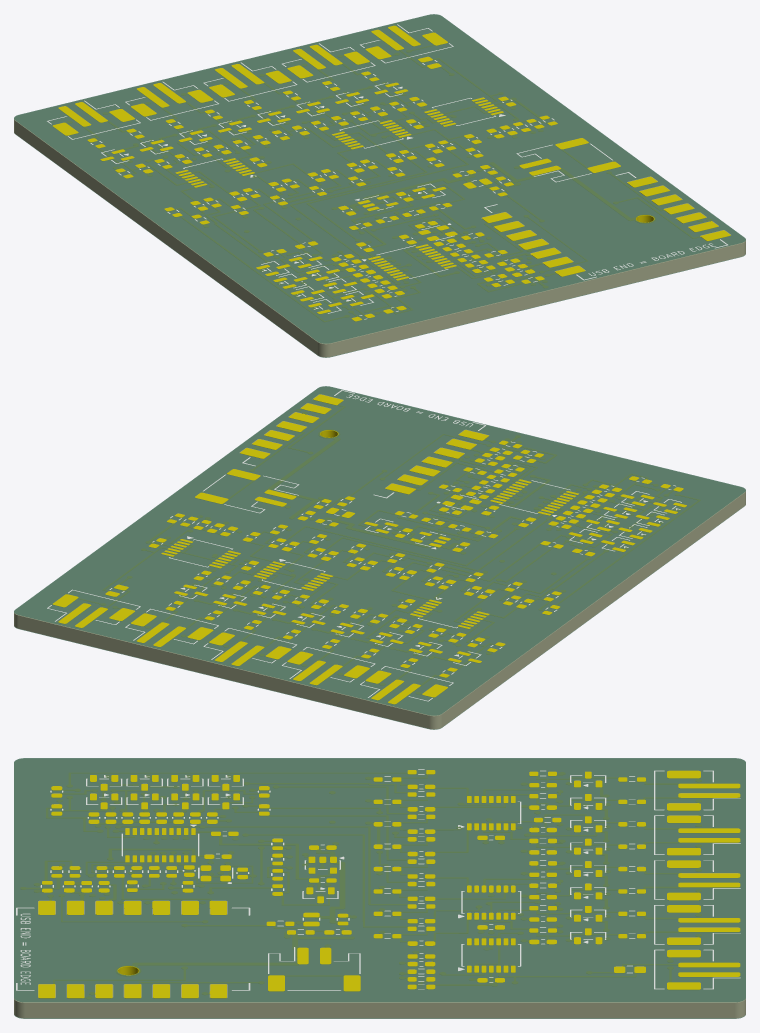
File: ARTHUR_EMG_RevB.glb
The picture shows the model from 3 angles, top to bottom: view 1: azimuth 30°, elevation 25°; view 2: azimuth 150°, elevation 25°; view 3: azimuth 270°, elevation 25°; orthographic projection. The views are drawn at different scales.
Parts seen in each view (by area): view 1: =>[0:1:1:5], =>[0:1:1:7], =>[0:1:1:2], =>[0:1:1:3], =>[0:1:1:6]; view 2: =>[0:1:1:5], =>[0:1:1:7], =>[0:1:1:2], =>[0:1:1:3], =>[0:1:1:6]; view 3: =>[0:1:1:5], =>[0:1:1:7], =>[0:1:1:2], =>[0:1:1:3], =>[0:1:1:6].
Boxes of the visible parts, x1,y1,x2,y2 form: =>[0:1:1:5]: (14,14,745,343); =>[0:1:1:7]: (14,15,745,357); =>[0:1:1:2]: (53,25,730,321); =>[0:1:1:3]: (47,24,727,319); =>[0:1:1:6]: (14,133,745,357); =>[0:1:1:5]: (14,386,745,715); =>[0:1:1:7]: (14,387,745,729); =>[0:1:1:2]: (53,394,699,704); =>[0:1:1:3]: (47,390,681,701); =>[0:1:1:6]: (14,505,745,729); =>[0:1:1:5]: (14,758,745,1002); =>[0:1:1:7]: (14,759,745,1018); =>[0:1:1:2]: (21,770,740,998); =>[0:1:1:3]: (16,769,740,990); =>[0:1:1:6]: (14,1014,745,1018).
Size of the model in its own units: 0.0513 by 0.00167 by 0.0649.
